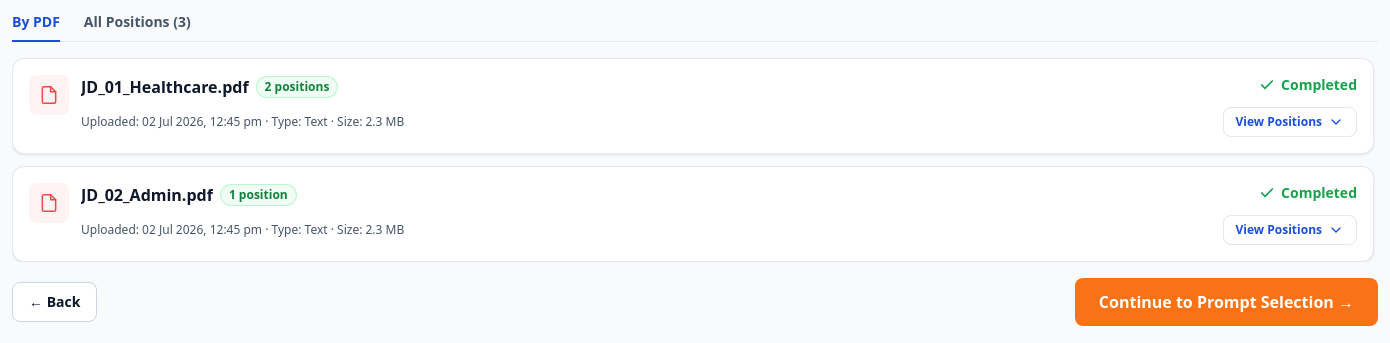
Test case: ExtractionResults — By PDF grouping › lists every position under the All Positions tab
This screenshot has width=1390, height=343.
Click the button "All Positions (3)". click: x=137, y=27
box: left=84, top=12, right=191, bottom=42
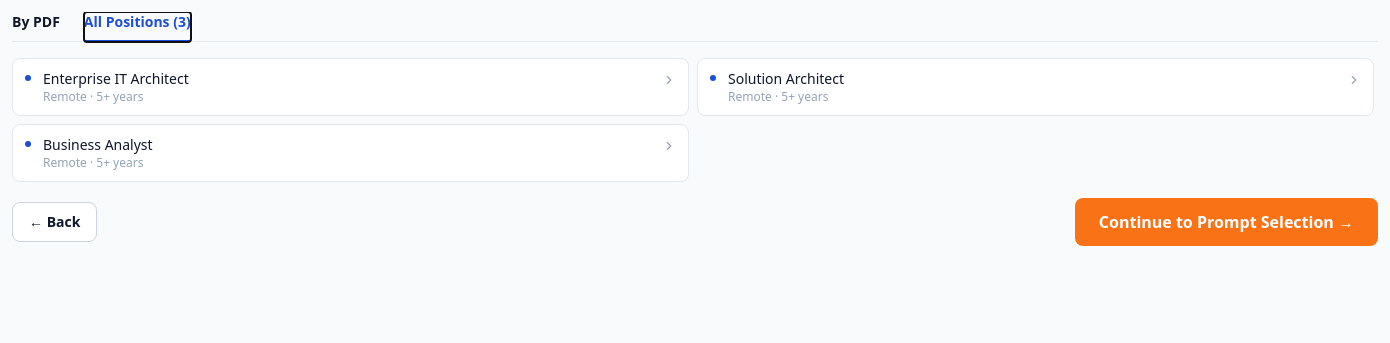
Result: the text "Enterprise IT Architect" is shown at left=43, top=69, right=189, bottom=88
Result: the text "Solution Architect" is shown at left=728, top=69, right=844, bottom=88
Result: the text "Business Analyst" is shown at left=43, top=135, right=153, bottom=154
